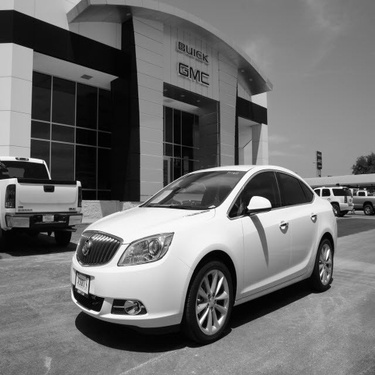car: (71, 161, 341, 332), (1, 149, 97, 240), (316, 178, 354, 209), (352, 186, 375, 214)
